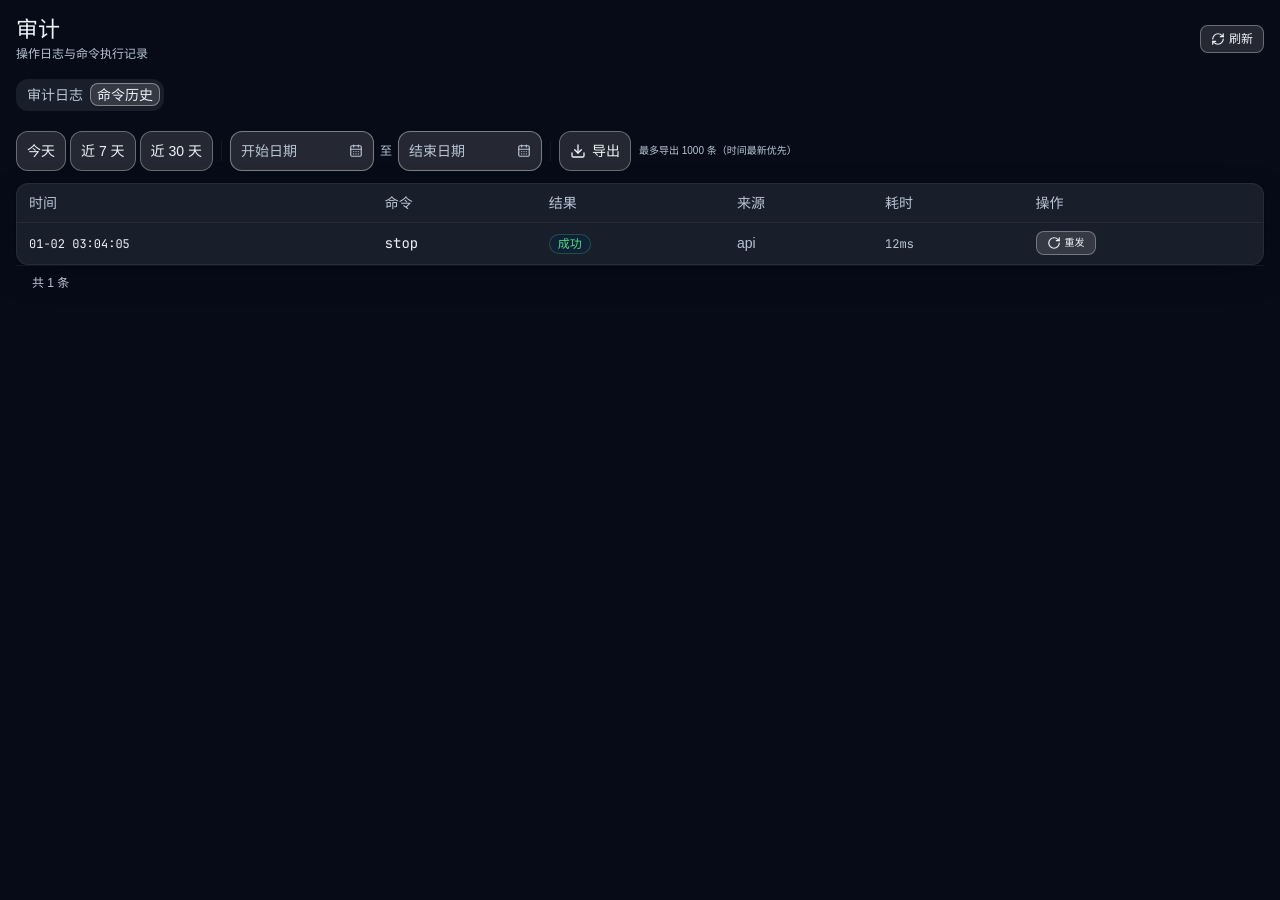
Scenario: AuditPage 命令重发 › 成功后有成功提示（不静默）
Click the button with aria-label "重发命令 stop" at (1066, 243), box [1036,231,1096,255]
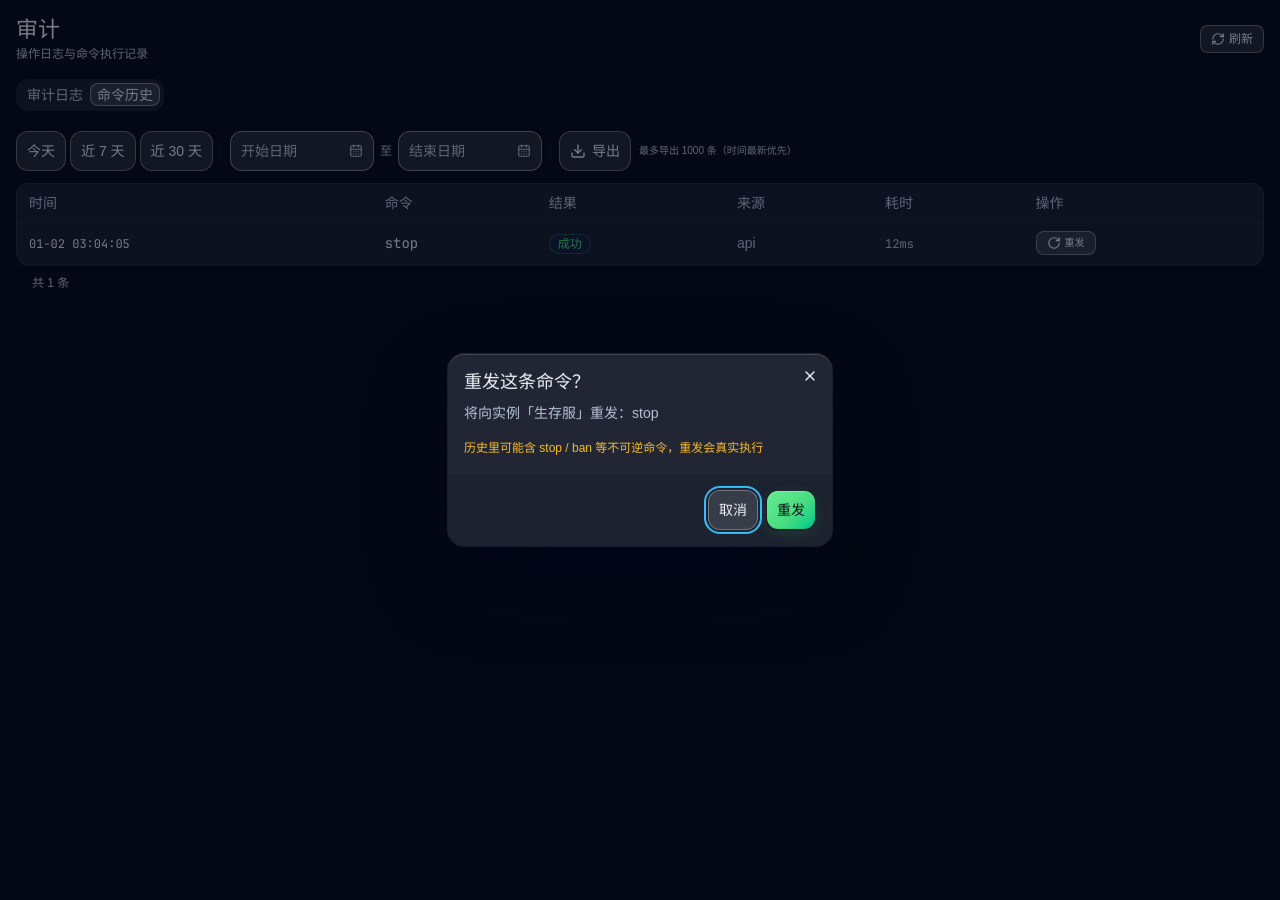
Click the button "重发" at (791, 510), box [766,490,816,530]
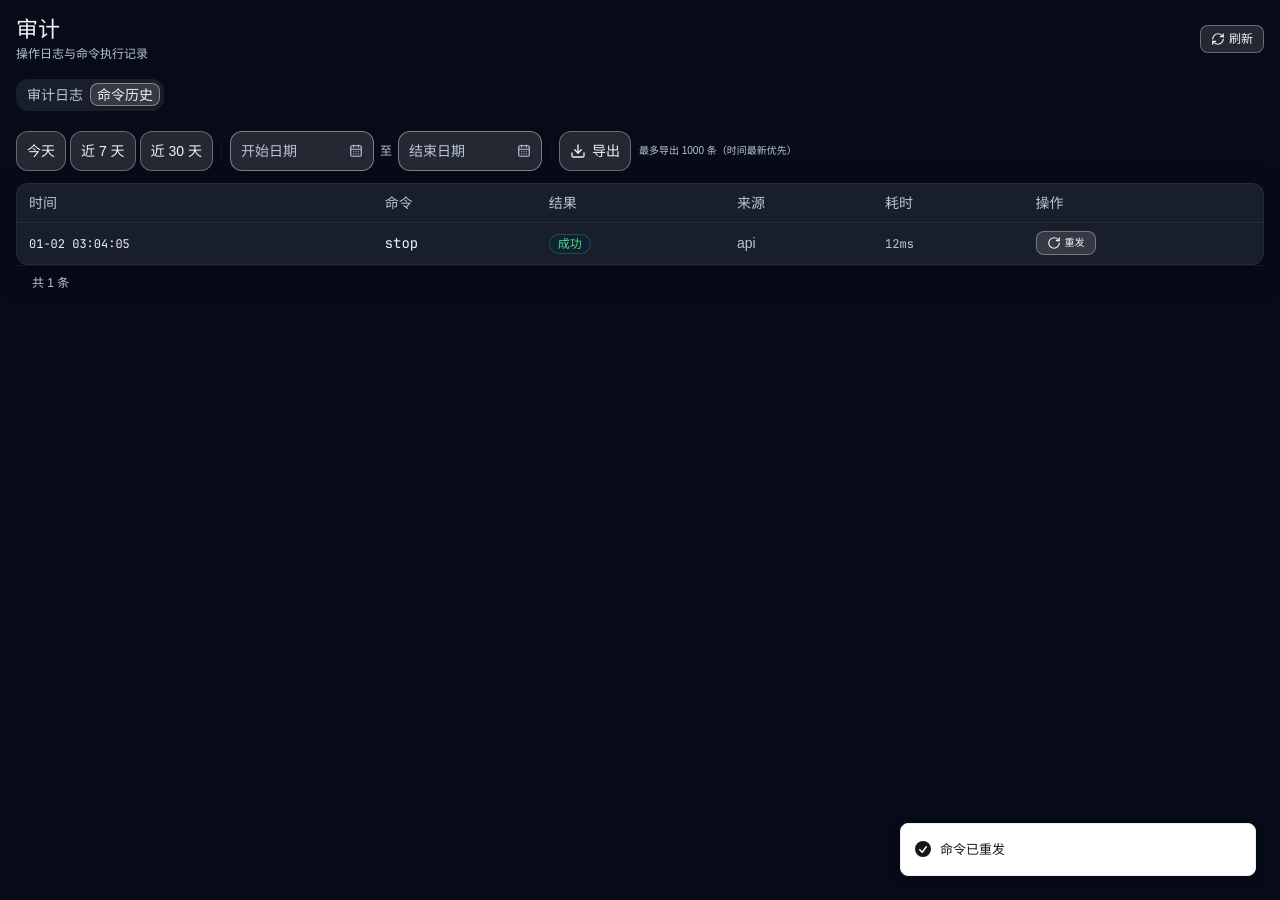
Expected: the text "命令已重发" is shown, [940,840,1005,859]
